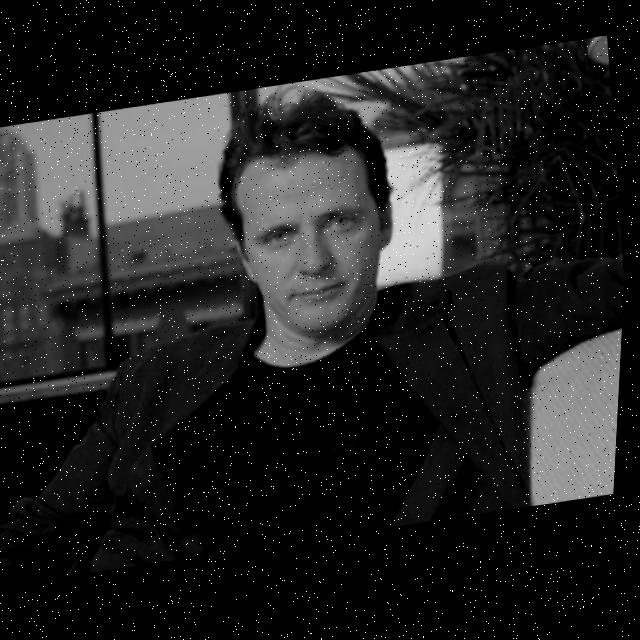face: (218, 134, 402, 358)
